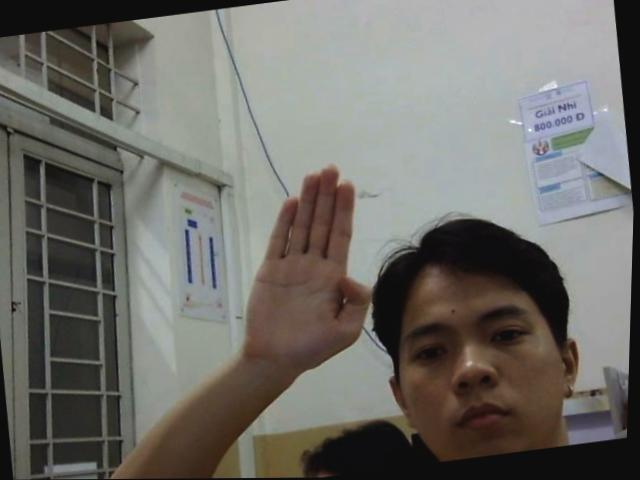B: (231, 159, 386, 367)
